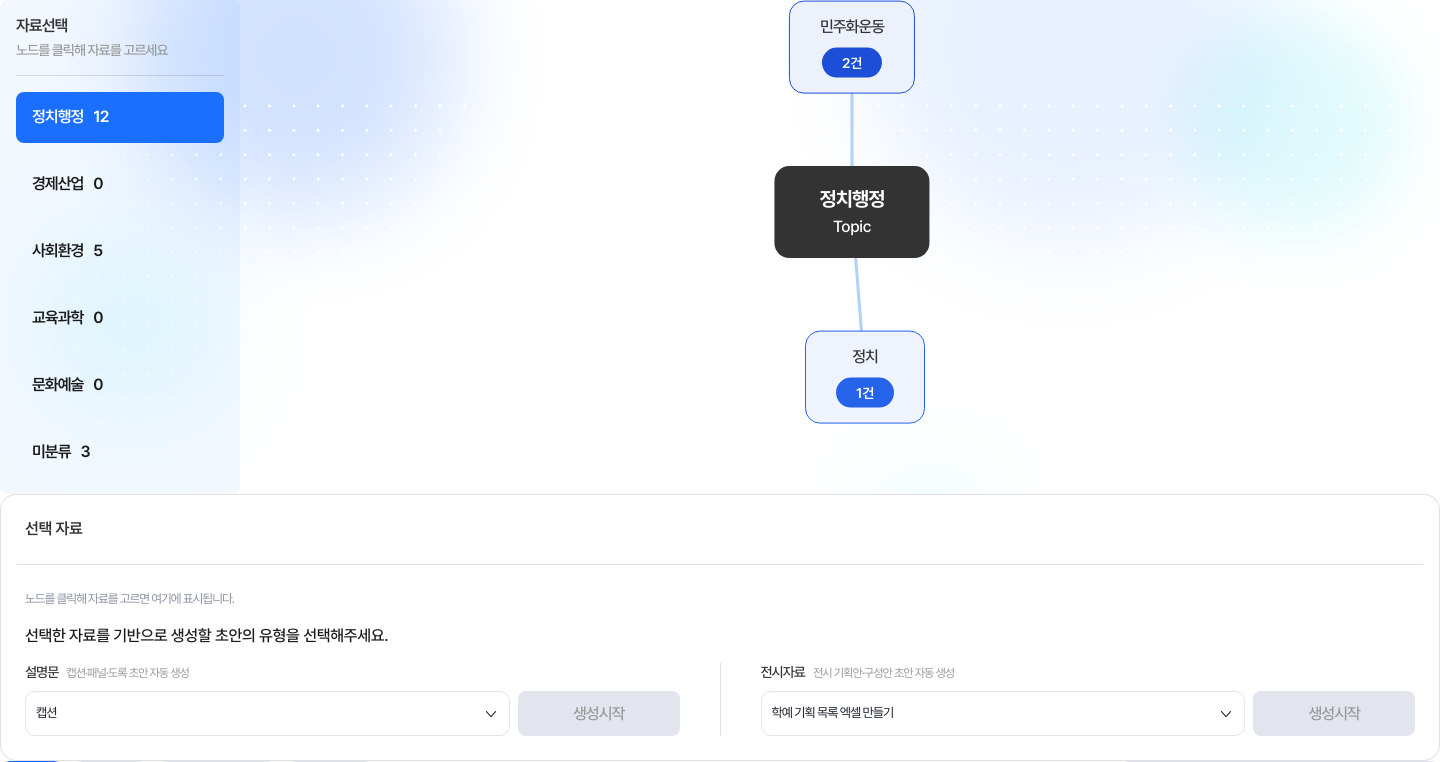
선택 → 생성 › 여러 노드를 고르면 합집합으로 센다(중복 노출은 정상)
Step 1. Click the button "민주화운동 2건" → (852, 47), box x1=789 y1=1 x2=915 y2=93
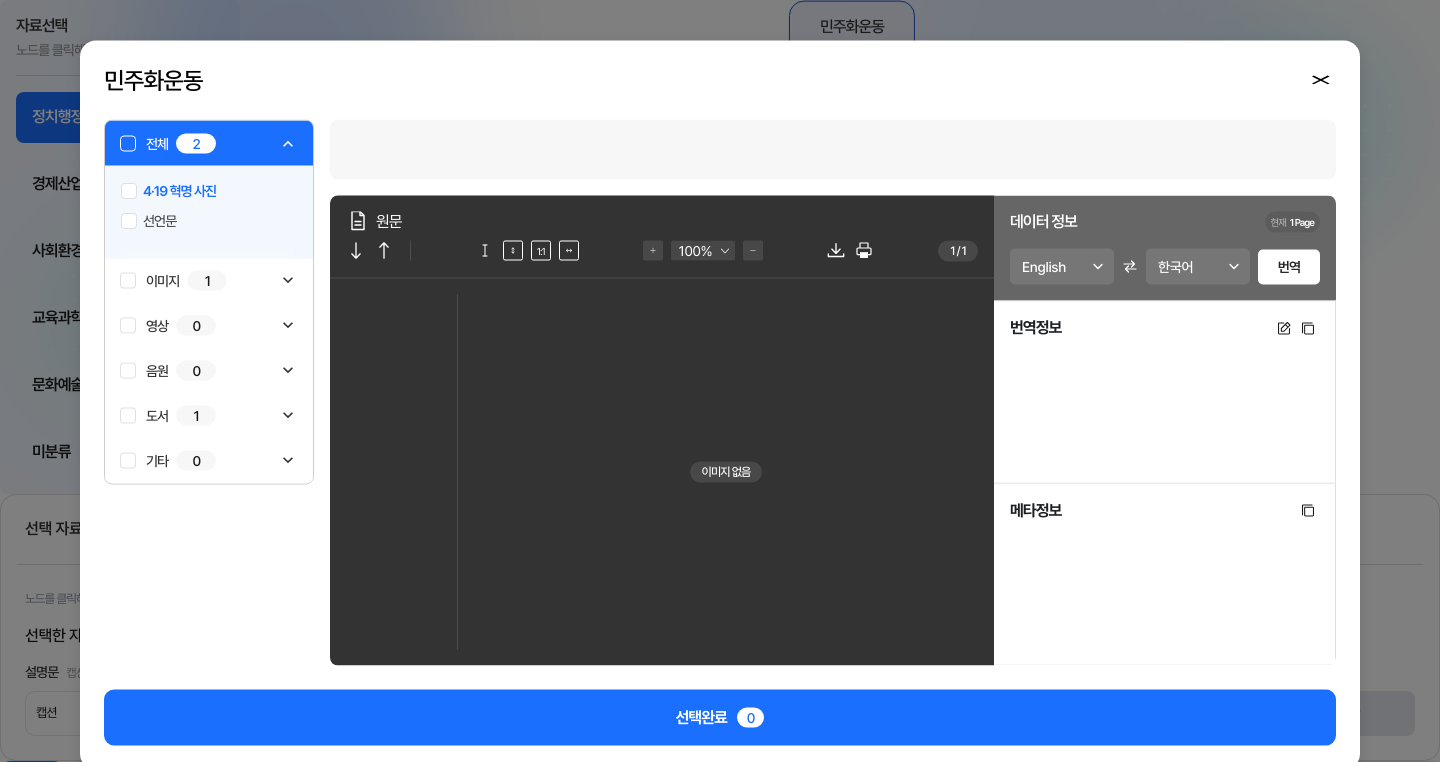
Step 2. Click the checkbox named "전체 전체 선택" → (128, 143), box x1=120 y1=135 x2=136 y2=151
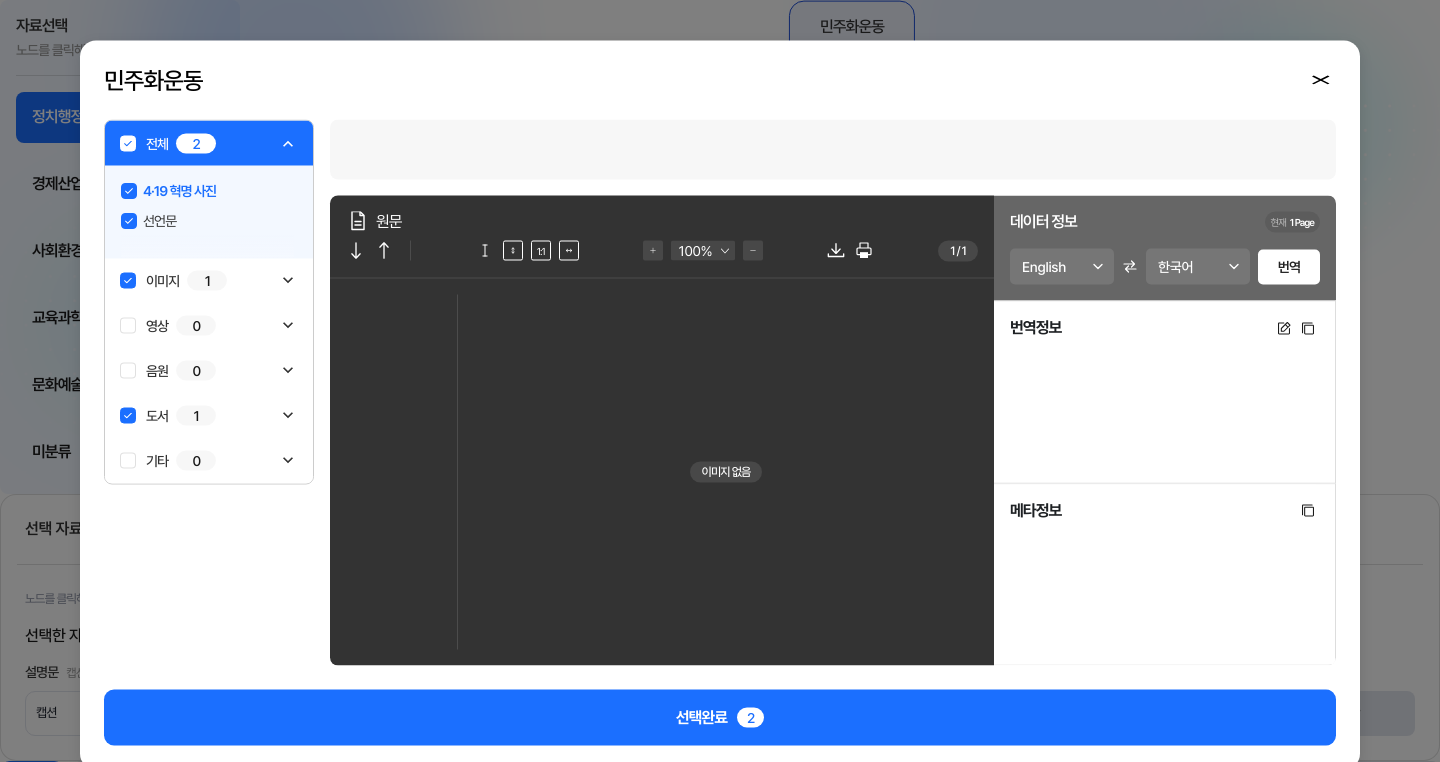
Step 3. Click the button "선택완료 2" → (720, 718), box x1=104 y1=690 x2=1336 y2=746
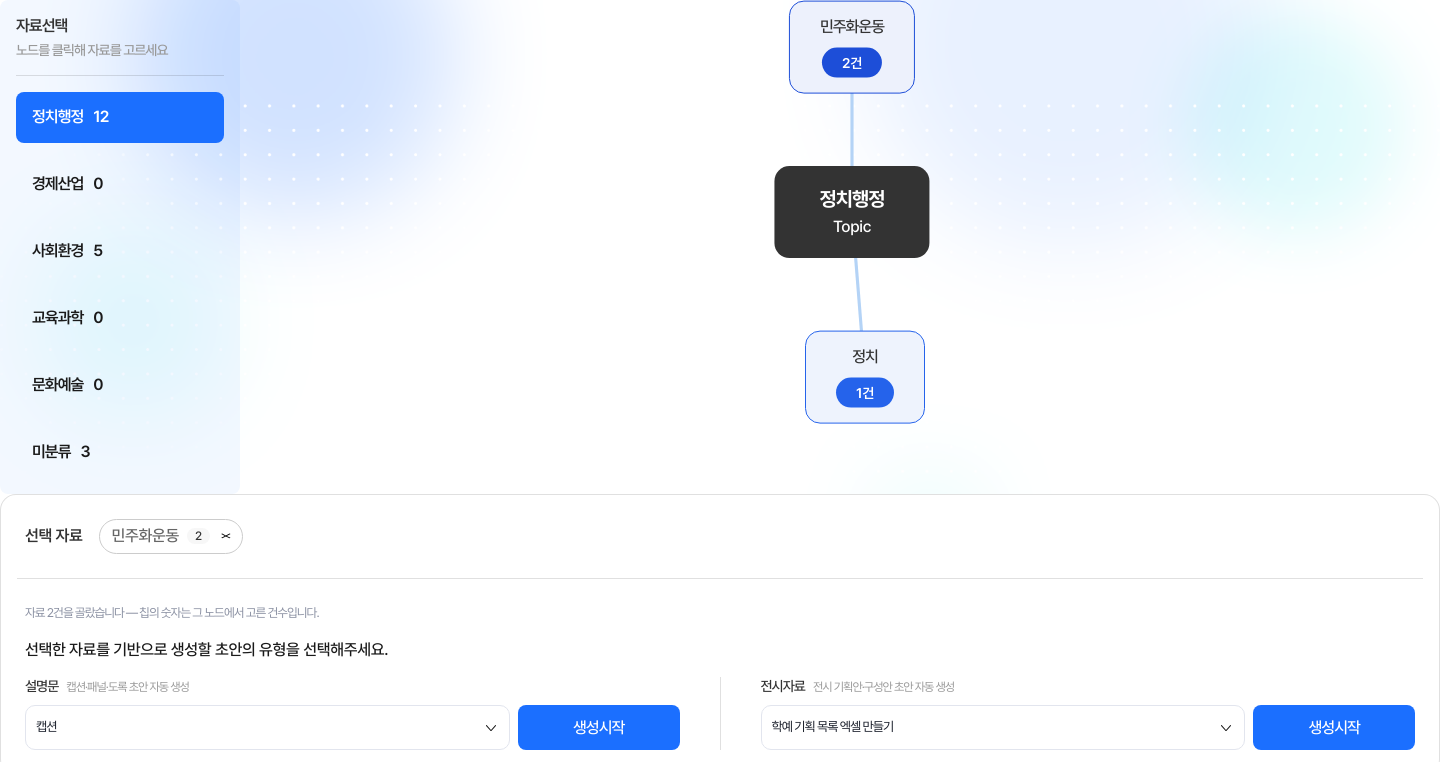
Step 4. Click the button "정치 1건" → (865, 377), box x1=805 y1=331 x2=925 y2=423
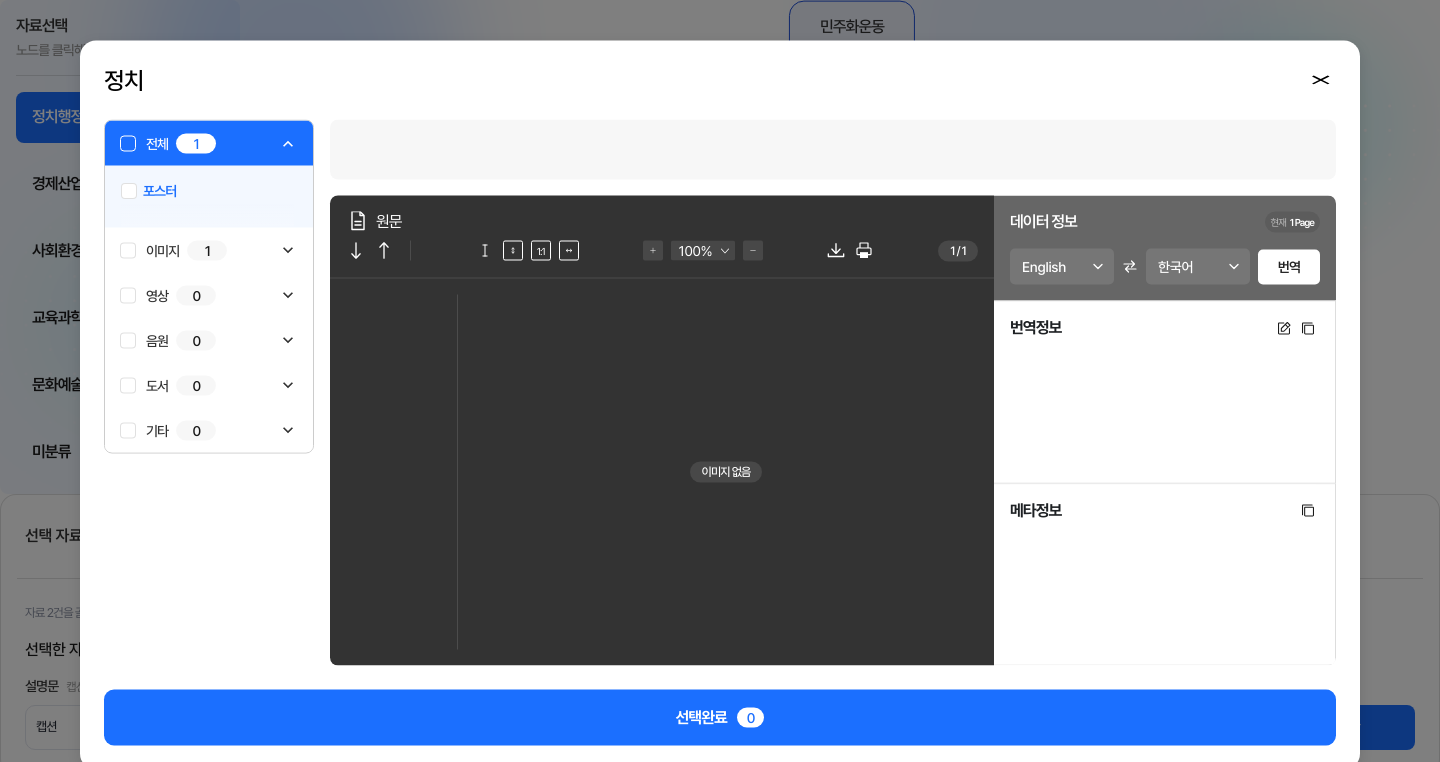
Step 5. Click the checkbox named "전체 전체 선택" → (128, 143), box x1=120 y1=135 x2=136 y2=151
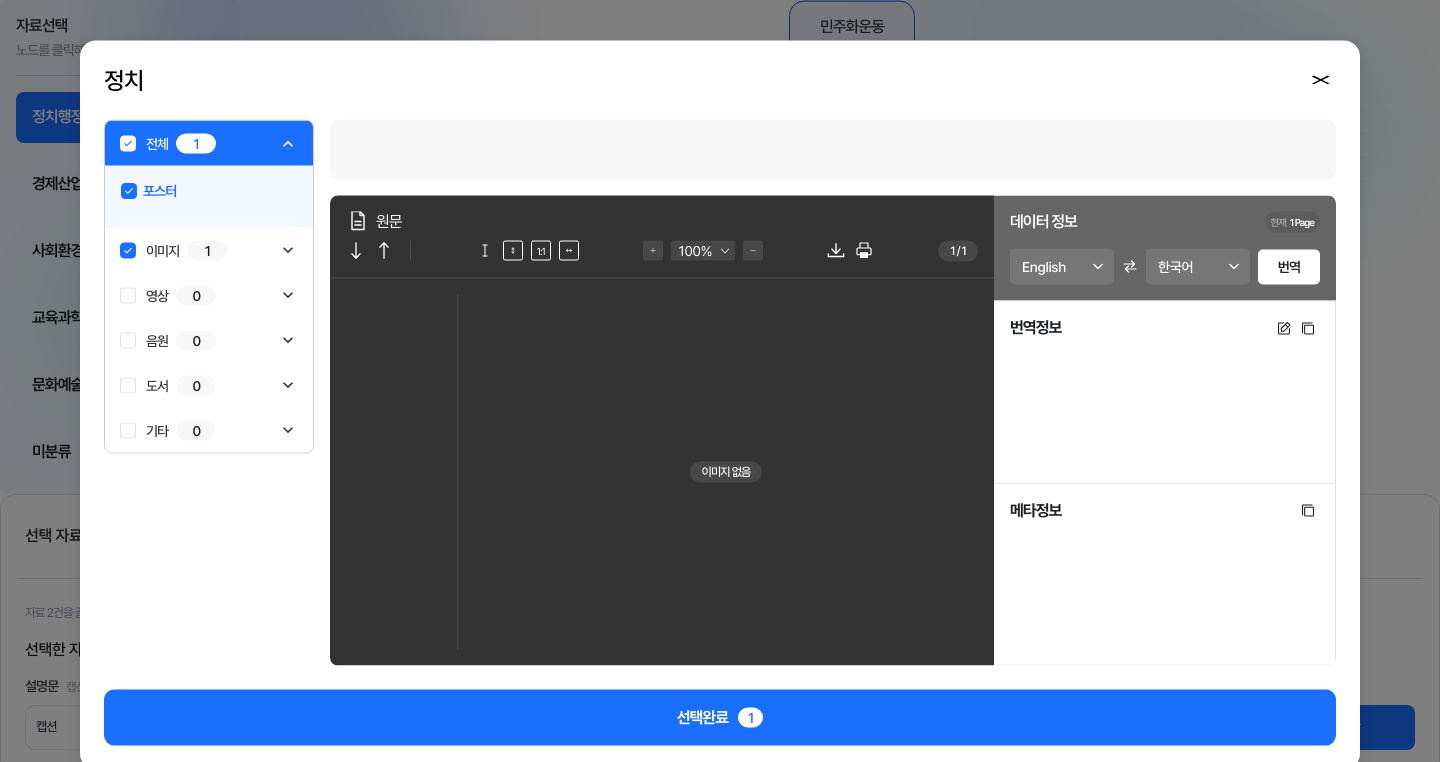
Step 6. Click the button "선택완료 1" → (720, 718), box x1=104 y1=690 x2=1336 y2=746
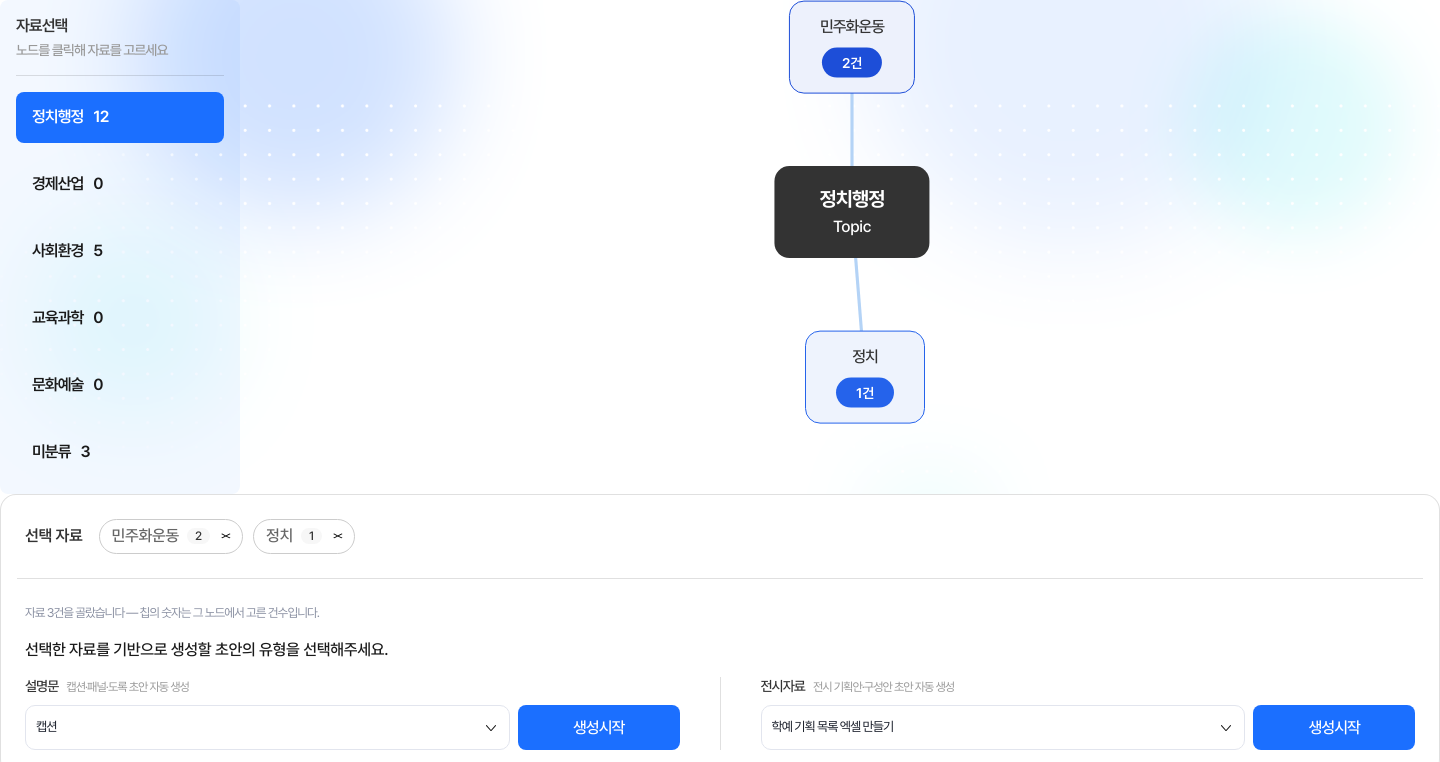
Expected: the text "자료 3건을 골랐습니다 — 칩의 숫자는 그 노드에서 고른 건수입니다." is shown, x1=25 y1=605 x2=319 y2=620
